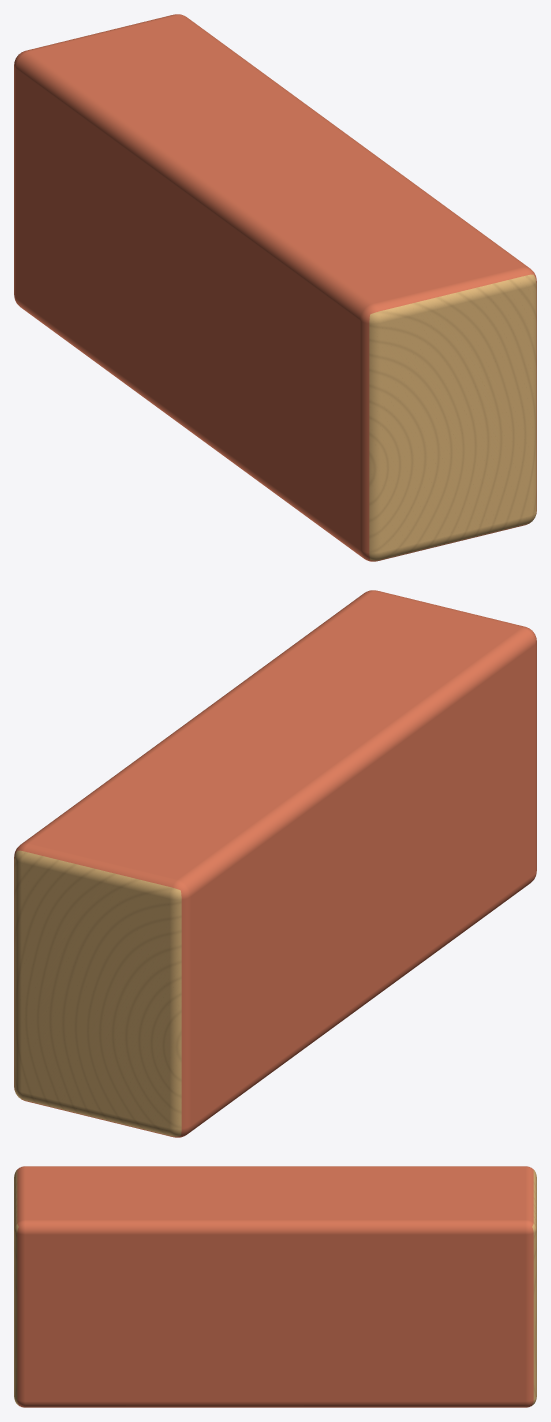
Rendered from source.glb.
3 renders of one model, top to bottom at view 1: azimuth 30°, elevation 25°; view 2: azimuth 150°, elevation 25°; view 3: azimuth 270°, elevation 25°, orthographic. The views are drawn at different scales.
Visible parts, largest first — view 1: Block_Paint_Left, Block_Paint_Top, Block_Wood_End_Front; view 2: Block_Paint_Left, Block_Paint_Top, Block_Wood_End_Back; view 3: Block_Painted_Body, Block_Paint_Top, Block_Wood_End_Front, Block_Wood_End_Back, Block_Paint_Bottom.
Part boxes in pixels (<box>): Block_Paint_Left: <box>14,56,369,559</box>; Block_Paint_Top: <box>17,14,533,314</box>; Block_Wood_End_Front: <box>369,274,536,560</box>; Block_Paint_Left: <box>181,632,536,1135</box>; Block_Paint_Top: <box>17,590,533,890</box>; Block_Wood_End_Back: <box>14,850,181,1136</box>; Block_Painted_Body: <box>17,1226,533,1407</box>; Block_Paint_Top: <box>17,1166,533,1226</box>; Block_Wood_End_Front: <box>14,1170,18,1404</box>; Block_Wood_End_Back: <box>532,1170,536,1404</box>; Block_Paint_Bottom: <box>18,1405,532,1407</box>.
Bounding box in the file's own units: 0.052 × 0.073 × 0.185.
Materials: 2 (1 with a texture image).
